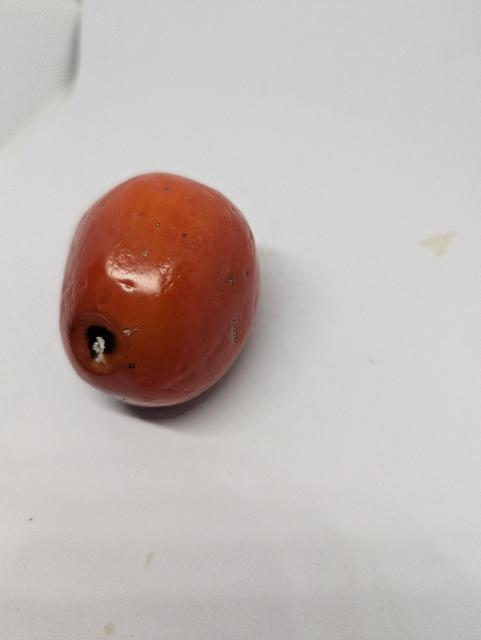defect: (56, 168, 263, 413)
